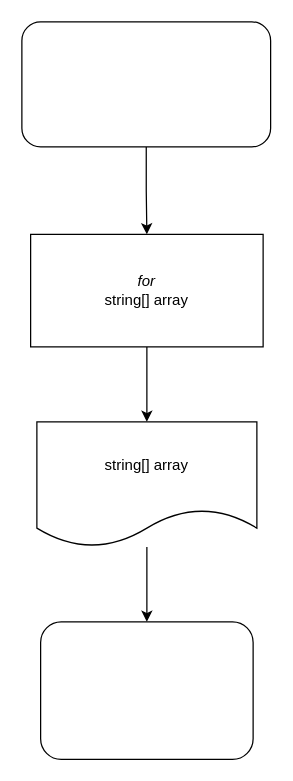
The diagram is 293 pixels wide and 781 high, and some of its shapes have lost their labels. Here are the shapes that lost their labels. From the top down, the box of each, then its label:
(21, 21, 271, 147): start
(39, 621, 253, 759): end
